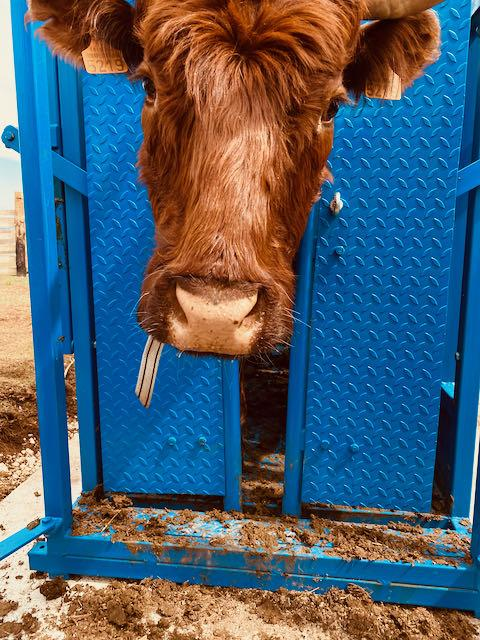muzzles: (129, 262, 302, 364)
